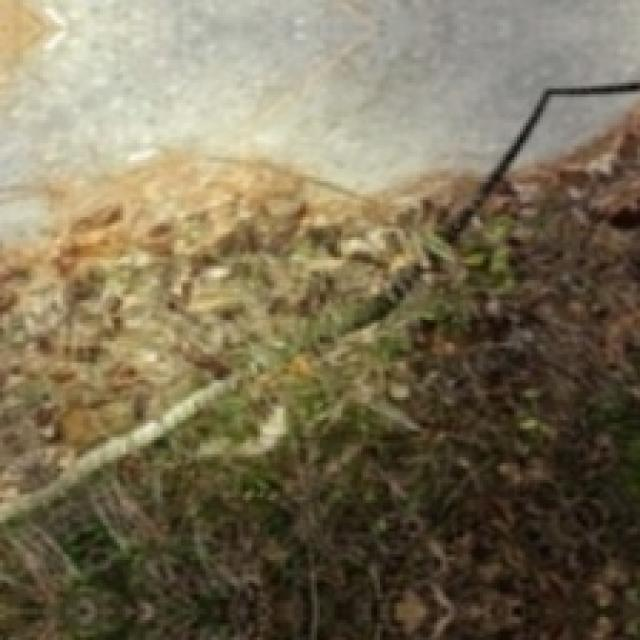king cobra: (0, 106, 637, 637)
